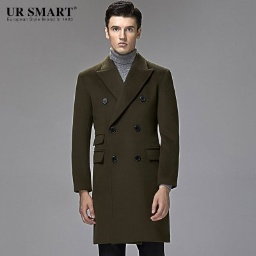face: (104, 1, 143, 56)
